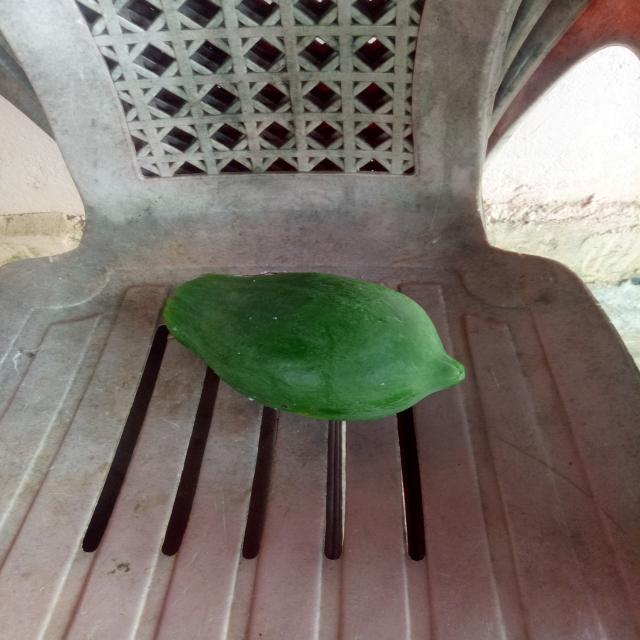Pepaya unrippen: (152, 268, 472, 436)
